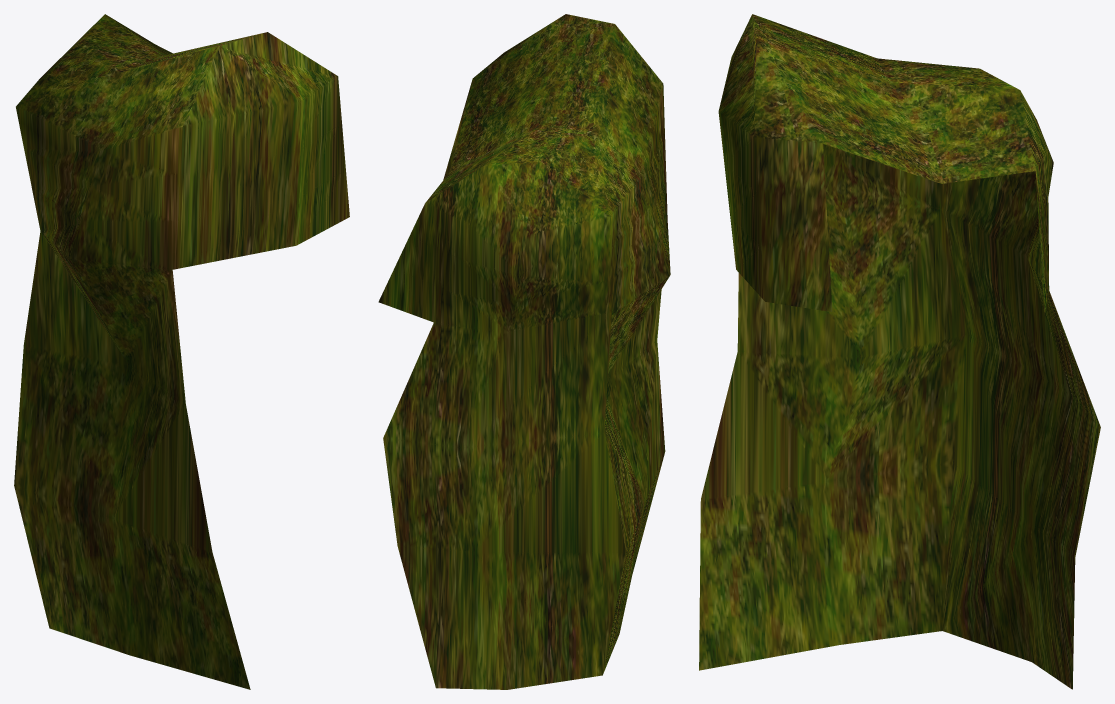
The model's file is TROLLHOLE02_RM_PSURF191.fbx.
The picture shows the model from 3 angles, left to right: view 1: azimuth 30°, elevation 25°; view 2: azimuth 150°, elevation 25°; view 3: azimuth 270°, elevation 25°; orthographic projection. The views are drawn at different scales.
Parts seen in each view (by area): view 1: TROLLHOLE02_RM_PSURF191; view 2: TROLLHOLE02_RM_PSURF191; view 3: TROLLHOLE02_RM_PSURF191.
Part boxes in pixels (<box>): TROLLHOLE02_RM_PSURF191: <box>14,14,349,689</box>; TROLLHOLE02_RM_PSURF191: <box>378,14,670,689</box>; TROLLHOLE02_RM_PSURF191: <box>699,14,1100,689</box>.
Bounding box in the file's own units: 39792 × 90024 × 49938.
Materials: 1 (1 with a texture image).
